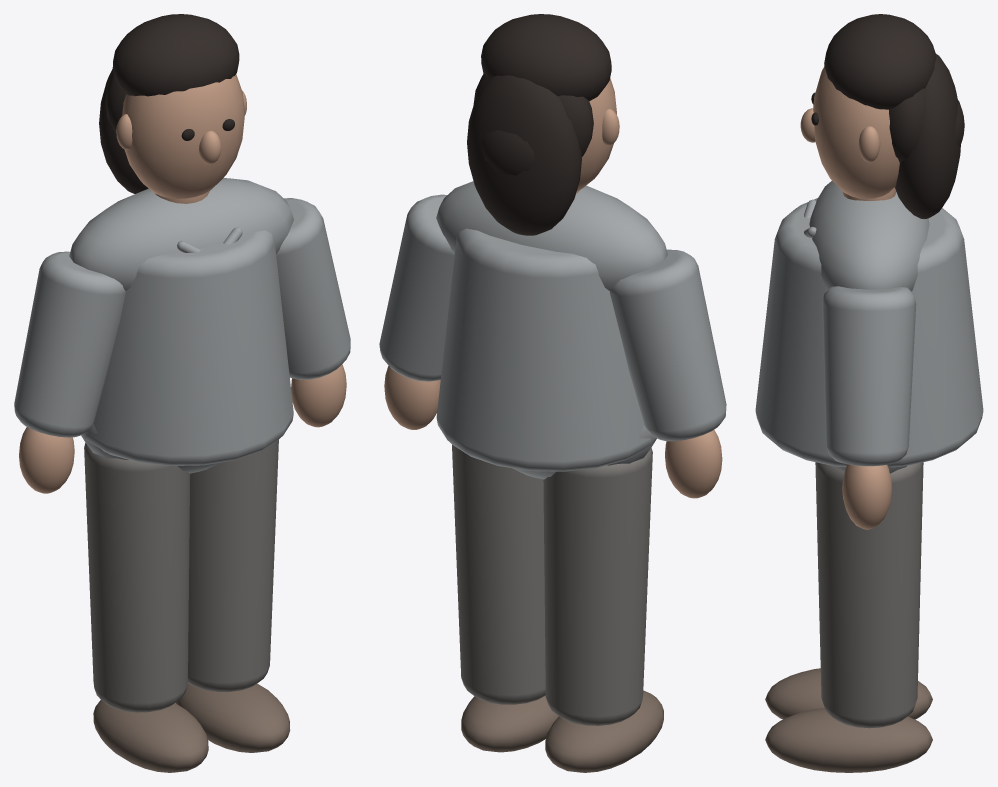
File: nu-di-chua.glb
3 renders of one model, left to right at view 1: azimuth 30°, elevation 25°; view 2: azimuth 150°, elevation 25°; view 3: azimuth 270°, elevation 25°, orthographic. The views are drawn at different scales.
Parts seen in each view (by area): view 1: Nu_than_ao, Nu_ong_quan, Nu_ong_quan.001, Nu_tay_ao, Nu_vai, Nu_dau, Nu_tay_ao.001, Nu_toc, Nu_dep, Nu_dep.001, Nu_ban_tay, Nu_ban_tay.001 (+3 smaller); view 2: Nu_than_ao, Nu_ong_quan, Nu_ong_quan.001, Nu_tay_ao, Nu_toc_dai, Nu_vai, Nu_tay_ao.001, Nu_toc, Nu_dep, Nu_dep.001, Nu_ban_tay, Nu_ban_tay.001 (+4 smaller); view 3: Nu_than_ao, Nu_ong_quan.001, Nu_tay_ao.001, Nu_vai, Nu_toc, Nu_dep.001, Nu_dau, Nu_toc_dai, Nu_ban_tay.001, Nu_dep, Nu_toc_sau, Nu_tai.001.
Boxes of the visible parts, x1,y1,x2,y2 form: Nu_than_ao: [81, 230, 293, 465]; Nu_ong_quan: [84, 443, 190, 712]; Nu_ong_quan.001: [188, 439, 278, 691]; Nu_tay_ao: [14, 251, 125, 437]; Nu_vai: [69, 178, 293, 290]; Nu_dau: [122, 74, 244, 198]; Nu_tay_ao.001: [276, 198, 350, 379]; Nu_toc: [112, 14, 239, 96]; Nu_dep: [93, 700, 208, 772]; Nu_dep.001: [175, 683, 290, 752]; Nu_ban_tay: [19, 427, 74, 493]; Nu_ban_tay.001: [291, 364, 346, 427]; Nu_than_ao: [436, 228, 656, 471]; Nu_ong_quan: [543, 447, 652, 725]; Nu_ong_quan.001: [452, 444, 545, 704]; Nu_tay_ao: [610, 249, 726, 441]; Nu_toc_dai: [467, 75, 581, 235]; Nu_vai: [436, 181, 667, 290]; Nu_tay_ao.001: [379, 194, 454, 381]; Nu_toc: [481, 14, 611, 101]; Nu_dep: [545, 690, 663, 772]; Nu_dep.001: [461, 695, 558, 752]; Nu_ban_tay: [665, 430, 722, 498]; Nu_ban_tay.001: [384, 365, 440, 429]; Nu_than_ao: [755, 198, 983, 467]; Nu_ong_quan.001: [815, 462, 923, 728]; Nu_tay_ao.001: [822, 286, 916, 466]; Nu_vai: [809, 181, 929, 291]; Nu_toc: [824, 14, 936, 109]; Nu_dep.001: [765, 708, 932, 772]; Nu_dau: [813, 66, 899, 198]; Nu_toc_dai: [895, 53, 960, 218]; Nu_ban_tay.001: [842, 464, 892, 529]; Nu_dep: [765, 668, 932, 719]; Nu_toc_sau: [889, 88, 926, 162]; Nu_tai.001: [858, 126, 880, 162].
Bounding box in the file's own units: 0.8045 × 1.69 × 0.4825.
